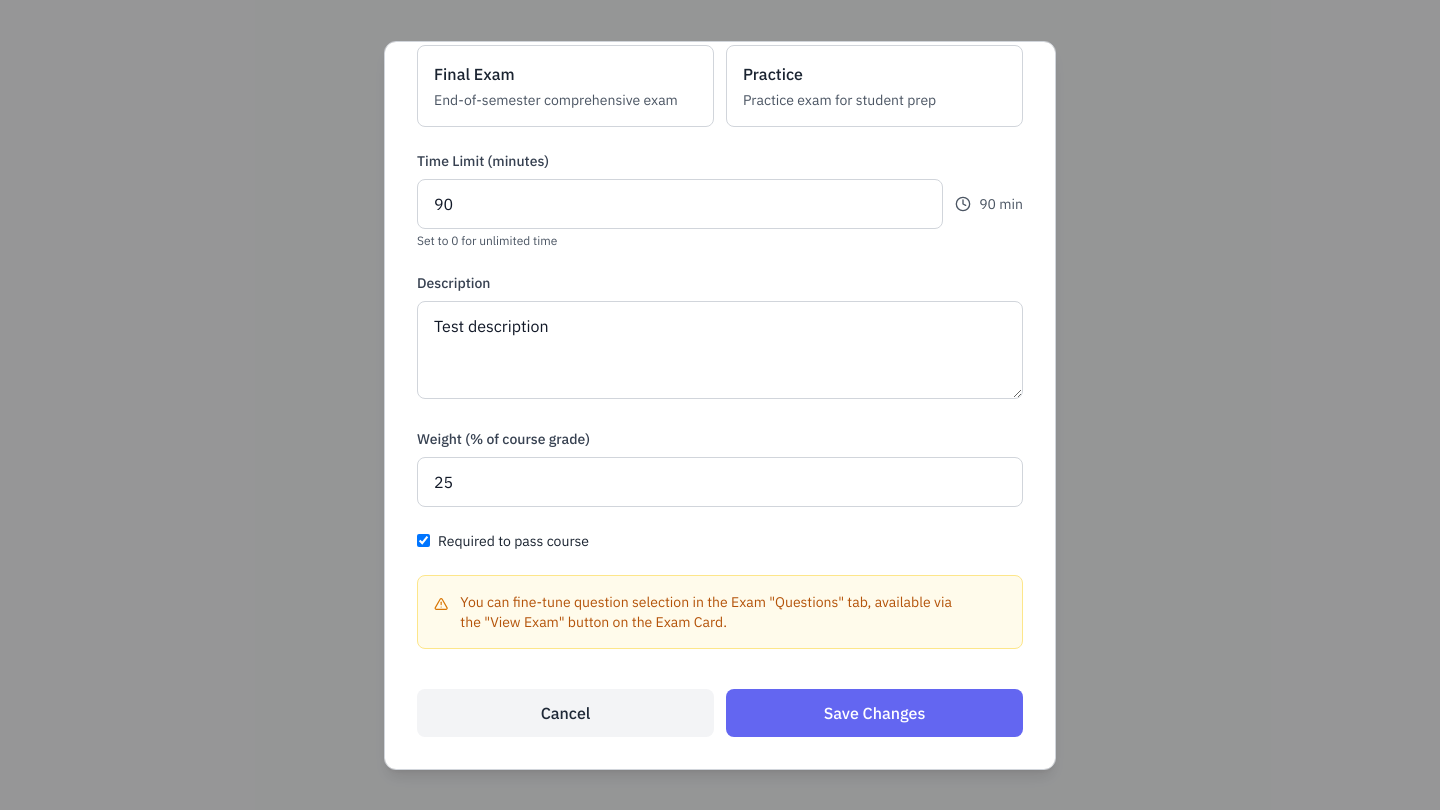
Scenario: EditExamModal › Form Updates › handles weight clamping correctly
(page scrolled)
// Test clamping to 100
Replace the text in the field with placeholder "0 – 100" below "Weight (% of course grade)" with "150" at [720, 482], box [417,456,1023,506]
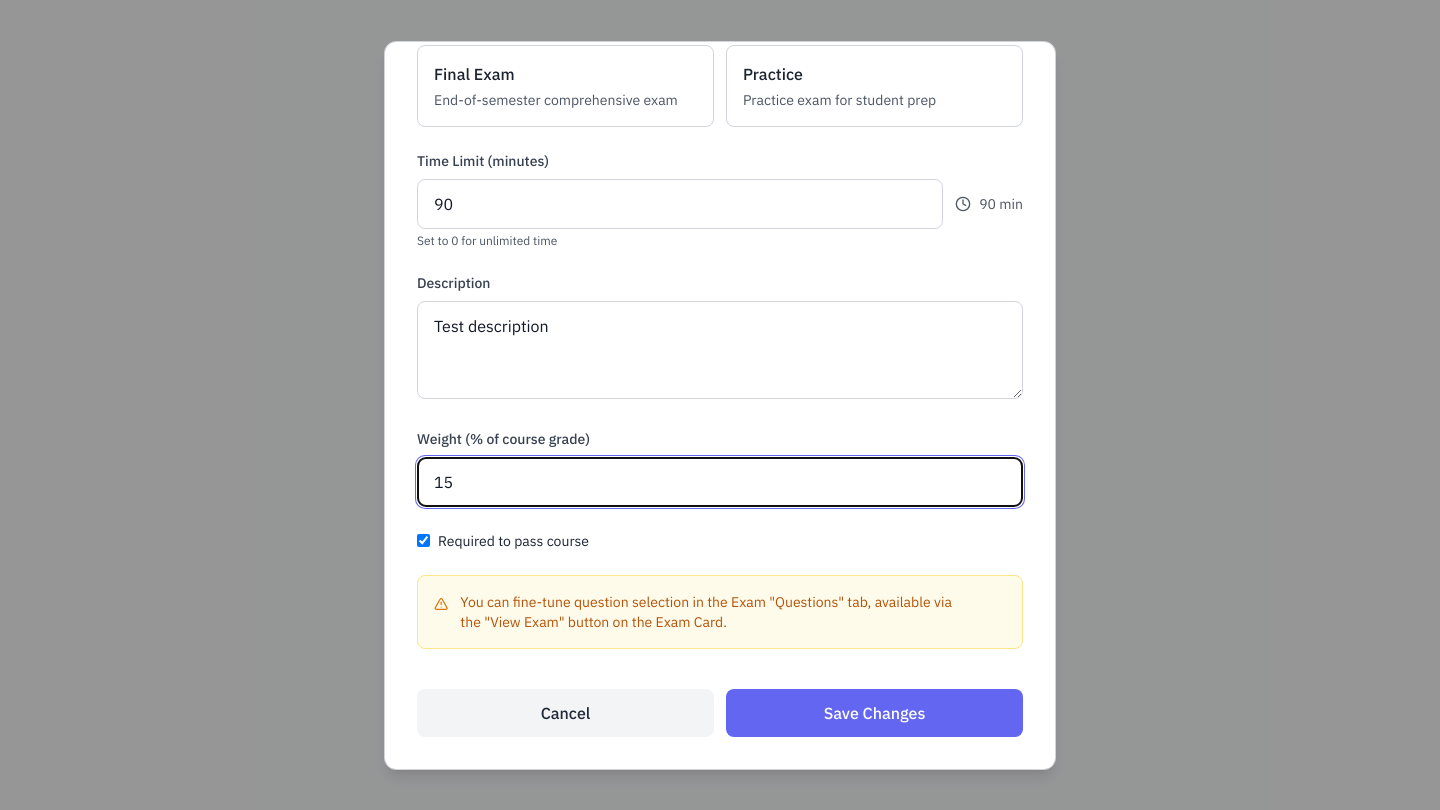
Check: the field with placeholder "0 – 100" below "Weight (% of course grade)" holds "15"
// Test negative
Replace the text in the field with placeholder "0 – 100" below "Weight (% of course grade)" with "-10" at [720, 482], box [417,456,1023,506]
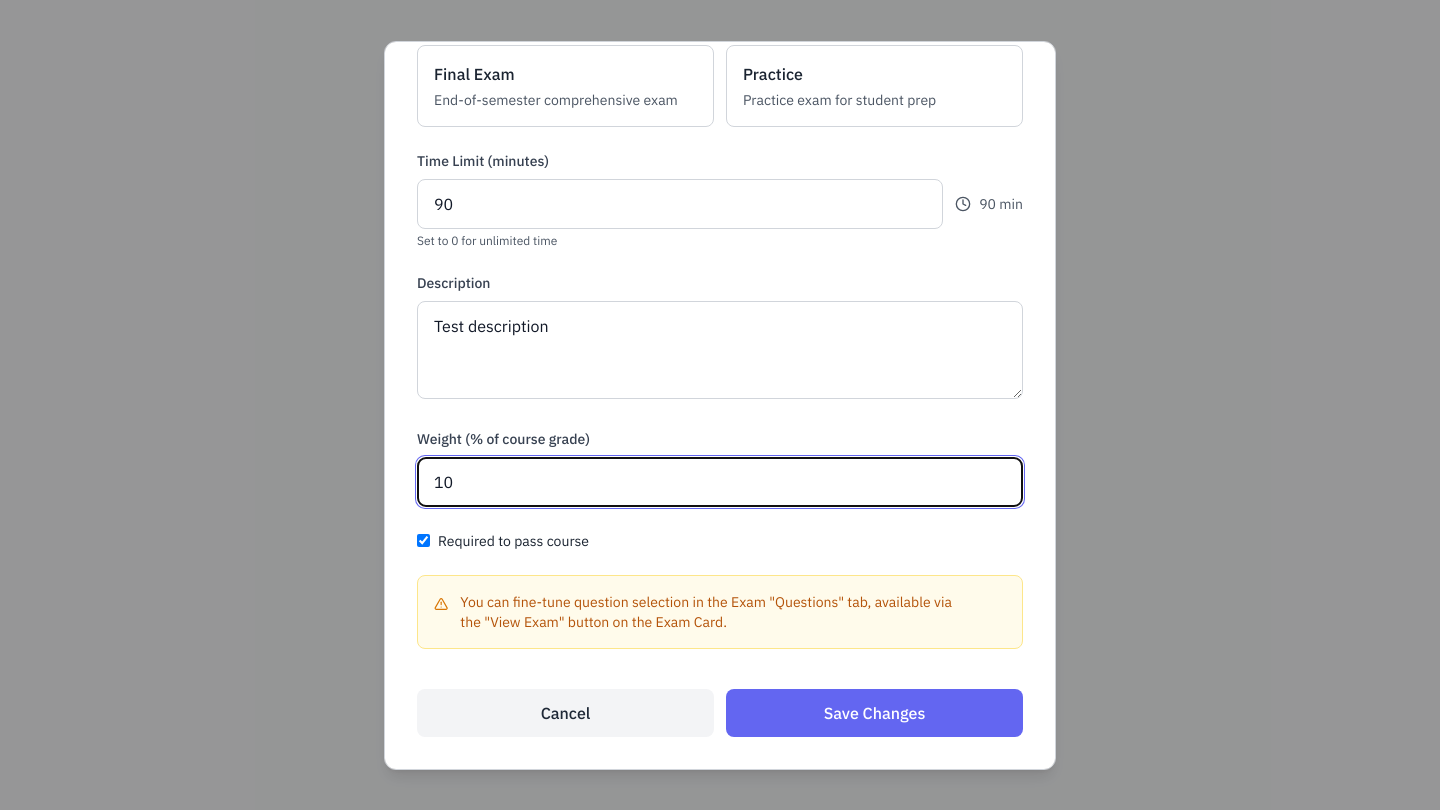
Check: the field with placeholder "0 – 100" below "Weight (% of course grade)" holds "10", box [417,456,1023,506]
